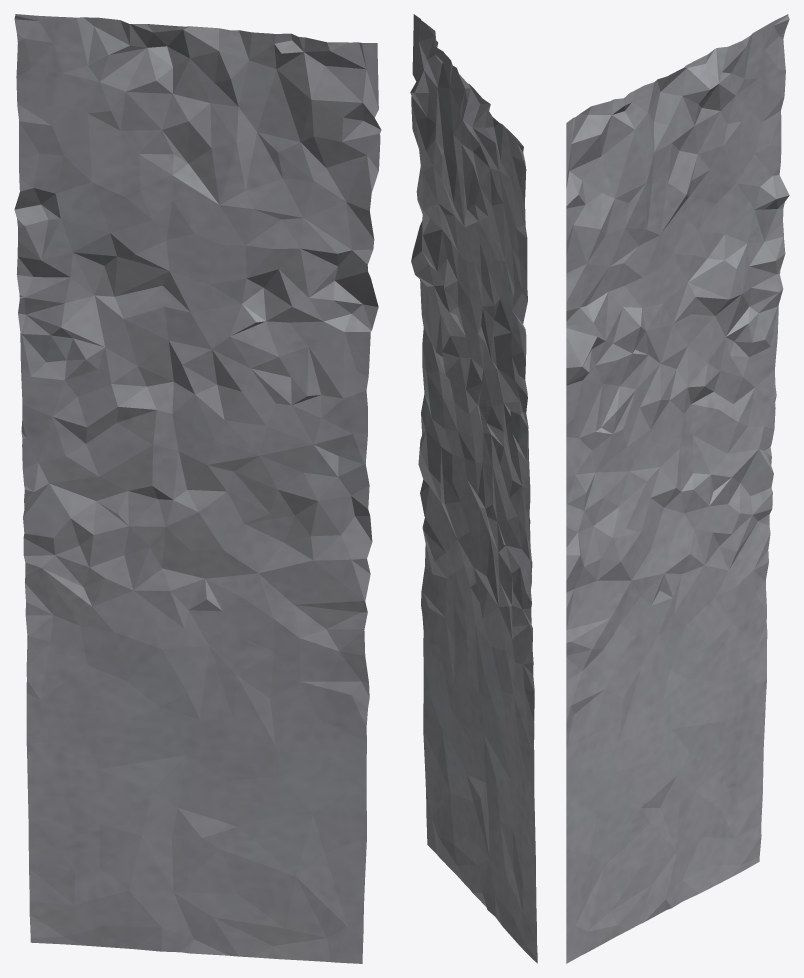
3 renders of one model, left to right at view 1: azimuth 30°, elevation 25°; view 2: azimuth 150°, elevation 25°; view 3: azimuth 270°, elevation 25°, orthographic. The views are drawn at different scales.
Size of the model in its own units: 0.2351 by 0.8374 by 0.2001.
Materials: 1 (1 with a texture image).
